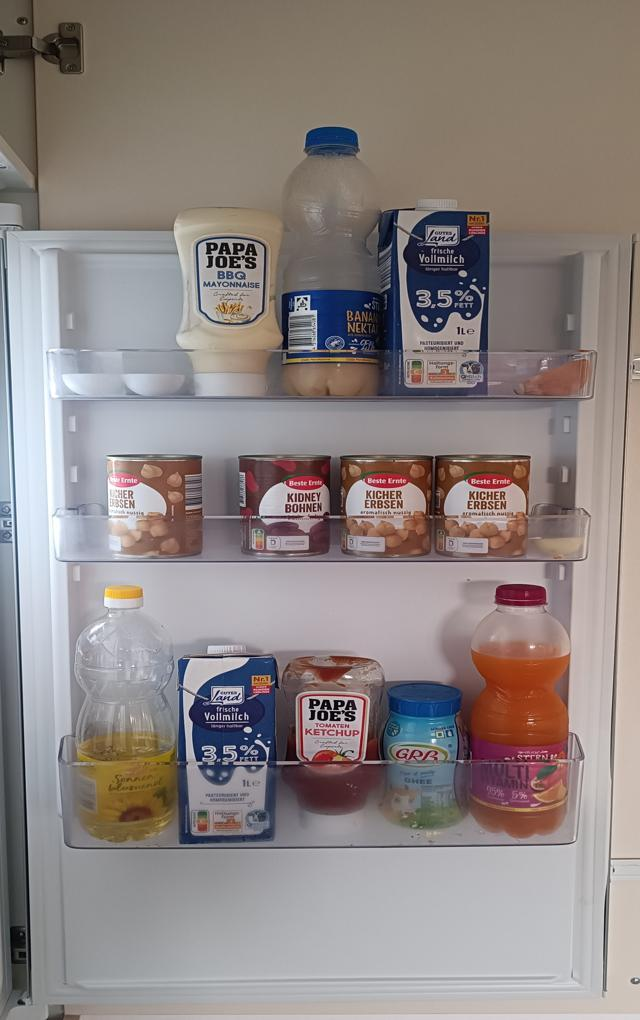bananajuice: (281, 126, 386, 402)
chickpeas: (434, 454, 530, 558), (108, 453, 201, 559), (340, 454, 433, 555)
ghee: (380, 681, 471, 827)
kidneybeans: (239, 453, 331, 556)
mayoniasie: (174, 206, 283, 399)
milk: (380, 196, 493, 402), (176, 643, 280, 845)
oil: (75, 585, 181, 833)
orangejuice: (467, 585, 571, 838)
tomatoketchup: (279, 655, 385, 835)
